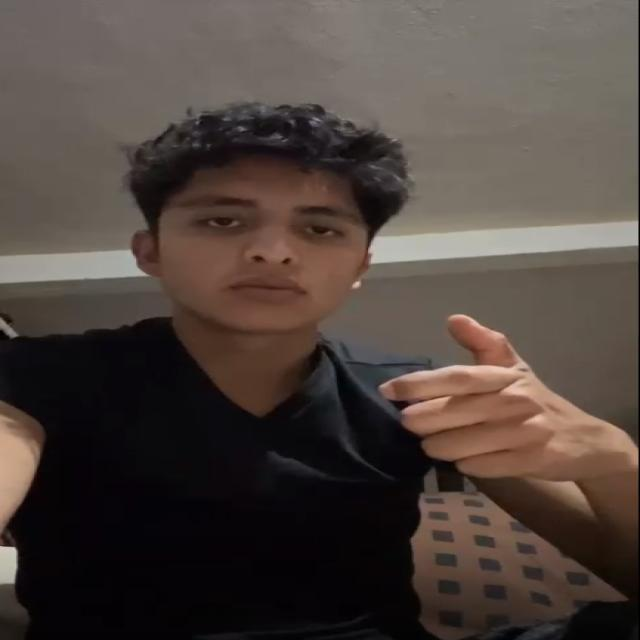X: (340, 302, 638, 521)
